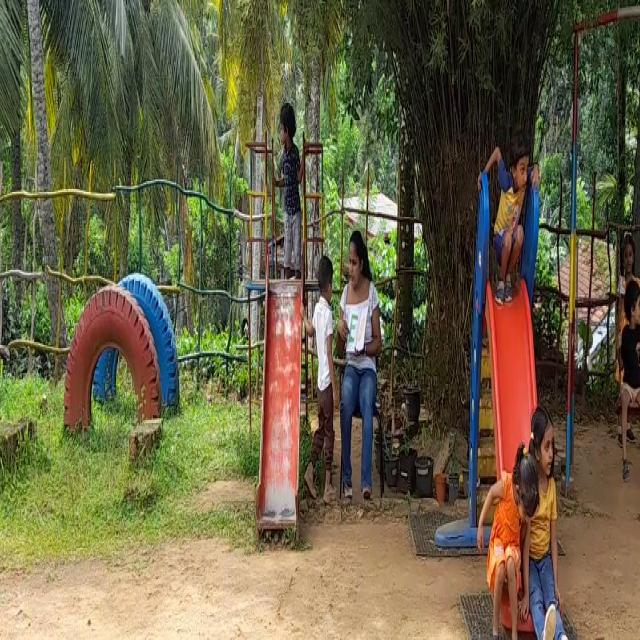adult: (342, 229, 384, 522)
child: (523, 384, 575, 640), (483, 409, 528, 640), (306, 250, 336, 500), (488, 103, 524, 300), (613, 284, 640, 480), (275, 90, 303, 276)
